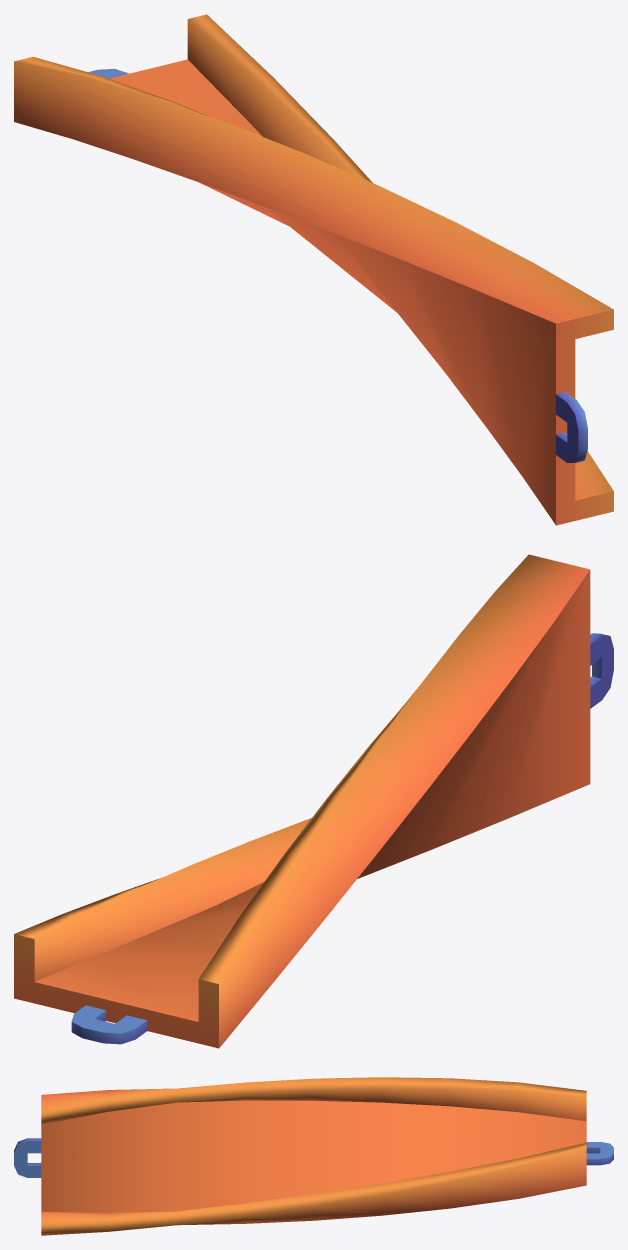
Rendered from track-narrow-straight-skew-left-side.glb.
The picture shows the model from 3 angles, top to bottom: view 1: azimuth 30°, elevation 25°; view 2: azimuth 150°, elevation 25°; view 3: azimuth 270°, elevation 25°; orthographic projection. The views are drawn at different scales.
Parts seen in each view (by area): view 1: track-narrow-straight-skew-left-side; view 2: track-narrow-straight-skew-left-side; view 3: track-narrow-straight-skew-left-side.
Boxes of the visible parts, x1,y1,x2,y2 form: track-narrow-straight-skew-left-side: [14, 14, 613, 525]; track-narrow-straight-skew-left-side: [14, 554, 613, 1048]; track-narrow-straight-skew-left-side: [14, 1077, 613, 1235].
Bounding box in the file's own units: 1.08 × 1.08 × 4.4.
Materials: 1 (1 with a texture image).
